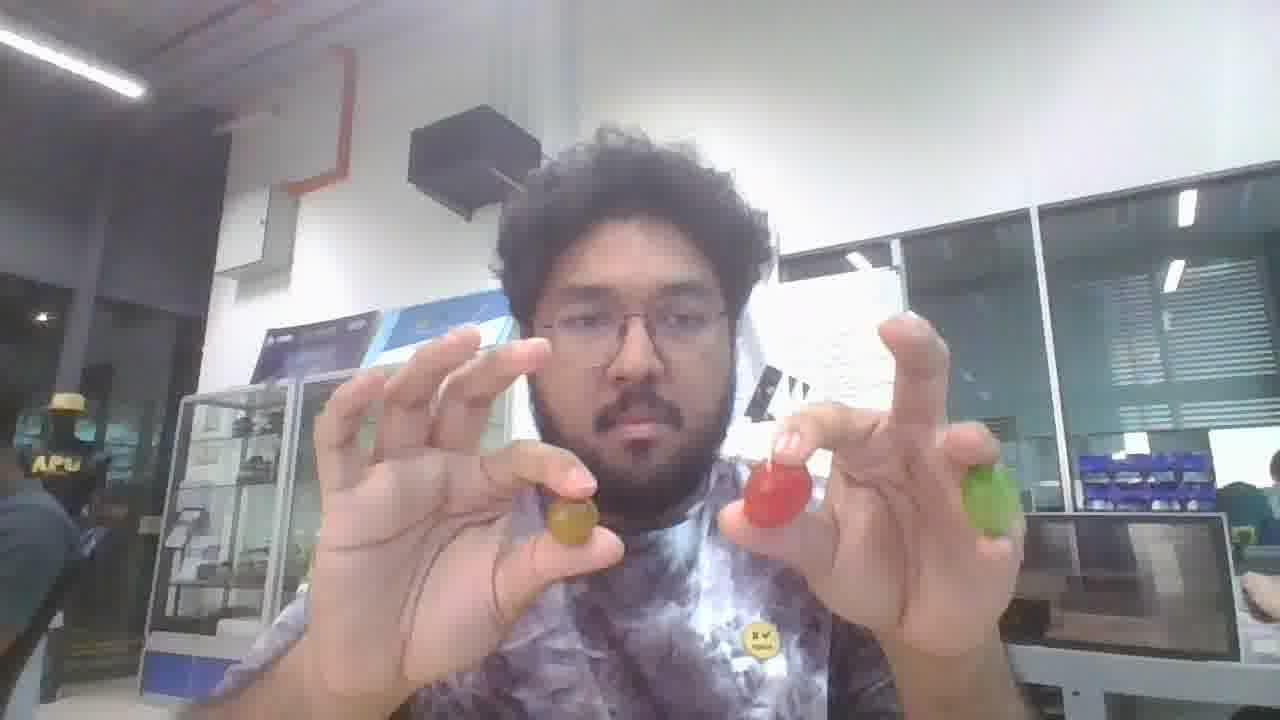green_cherry_tomato: (962, 465, 1020, 536)
red_cherry_tomato: (744, 461, 812, 528)
yellow_cherry_tomato: (546, 499, 598, 544)
